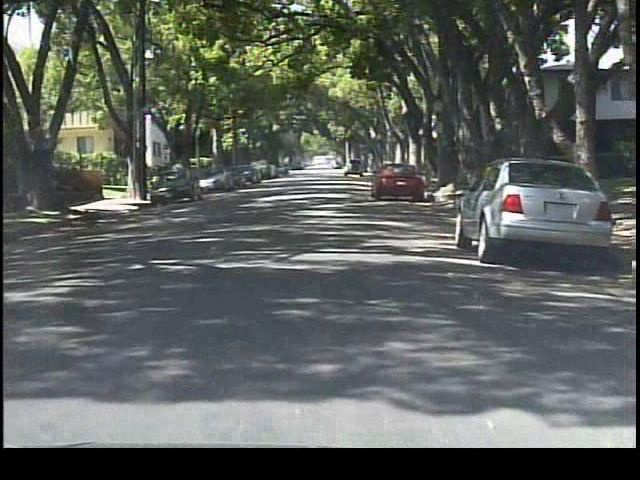person: (169, 159, 188, 194)
